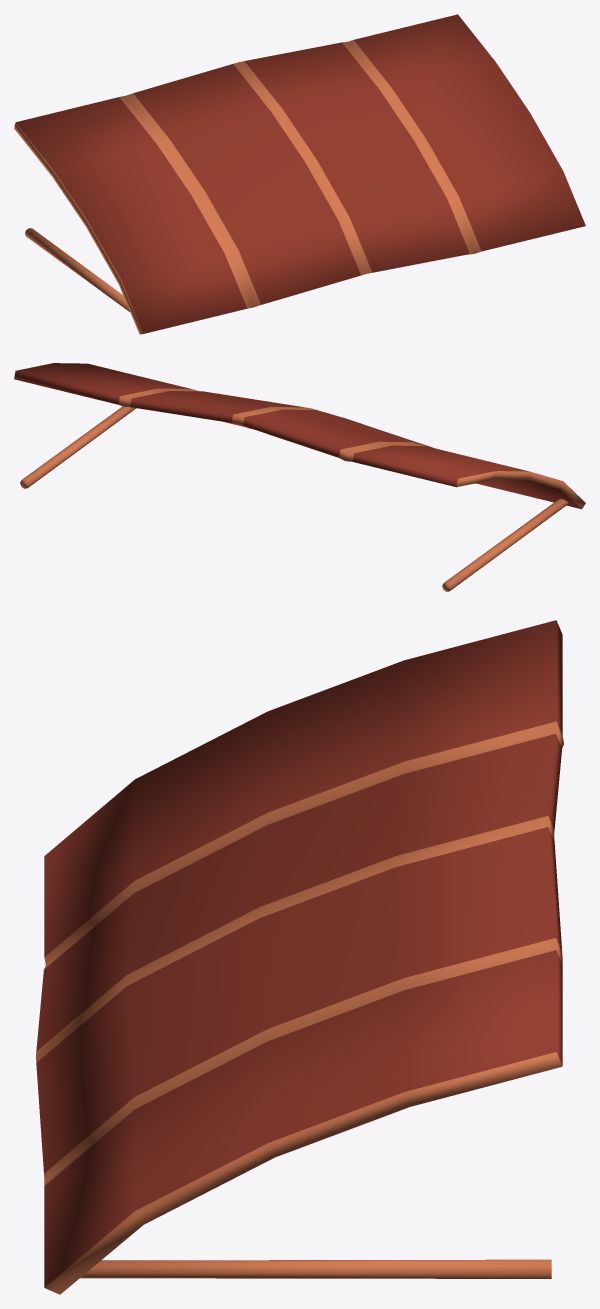
File: Toldo.fbx
3 renders of one model, top to bottom at view 1: azimuth 30°, elevation 25°; view 2: azimuth 150°, elevation 25°; view 3: azimuth 270°, elevation 25°, orthographic. The views are drawn at different scales.
Visible parts, largest first — view 1: Plane; view 2: Plane; view 3: Plane.
Boxes of the visible parts, <box> form: Plane: <box>14,14,585,334</box>; Plane: <box>14,363,585,591</box>; Plane: <box>36,620,563,1294</box>.
Bounding box in the file's own units: 714 × 200 × 369.
